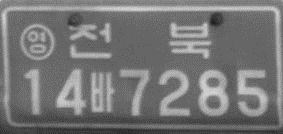1: (19, 66, 49, 116)
2: (157, 67, 190, 116)
4: (54, 67, 86, 115)
5: (236, 68, 269, 117)
7: (119, 67, 149, 116)
8: (196, 69, 229, 118)
바: (89, 71, 115, 114)
영: (19, 22, 54, 61)
전북_D: (68, 21, 211, 59)
